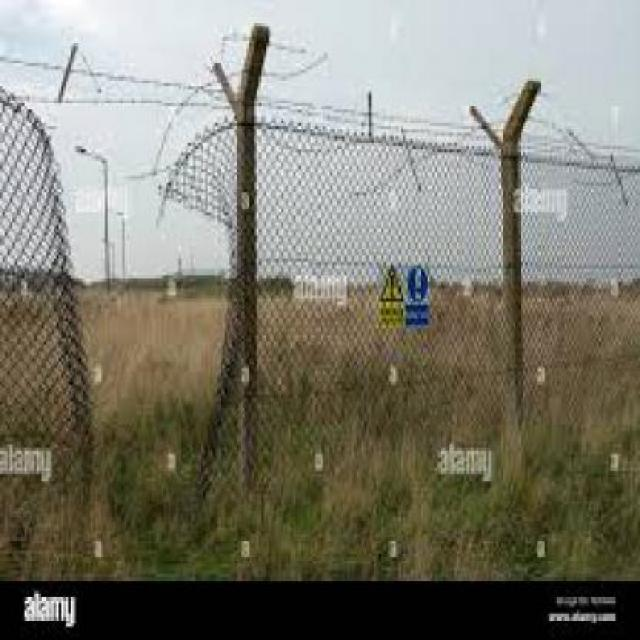fence line: (52, 109, 254, 502)
